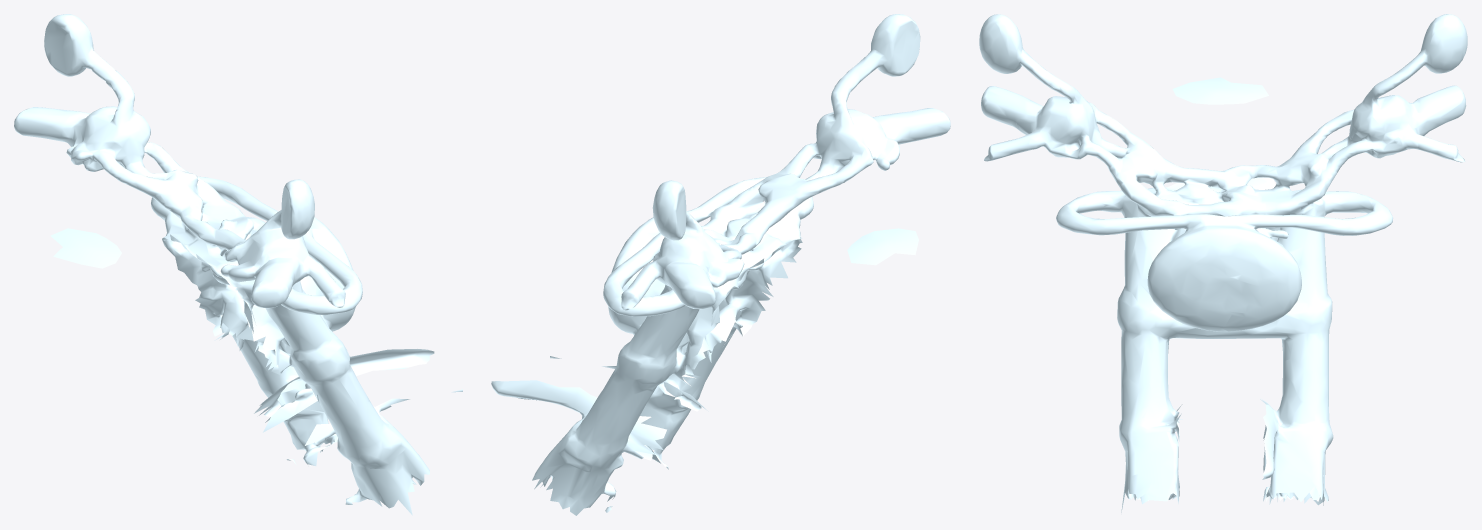
Rendered from ronin-steer.v1.glb.
3 views of the same model, side by side, from view 1: azimuth 30°, elevation 25°; view 2: azimuth 150°, elevation 25°; view 3: azimuth 270°, elevation 25° (orthographic). The views are drawn at different scales.
Parts seen in each view (by area): view 1: ronin-steer; view 2: ronin-steer; view 3: ronin-steer.
Boxes of the visible parts, bbox=[...] form: ronin-steer: bbox=[14, 14, 462, 515]; ronin-steer: bbox=[491, 14, 950, 515]; ronin-steer: bbox=[979, 14, 1467, 512].
Bounding box in the file's own units: 0.7451 × 0.7526 × 0.7987.
